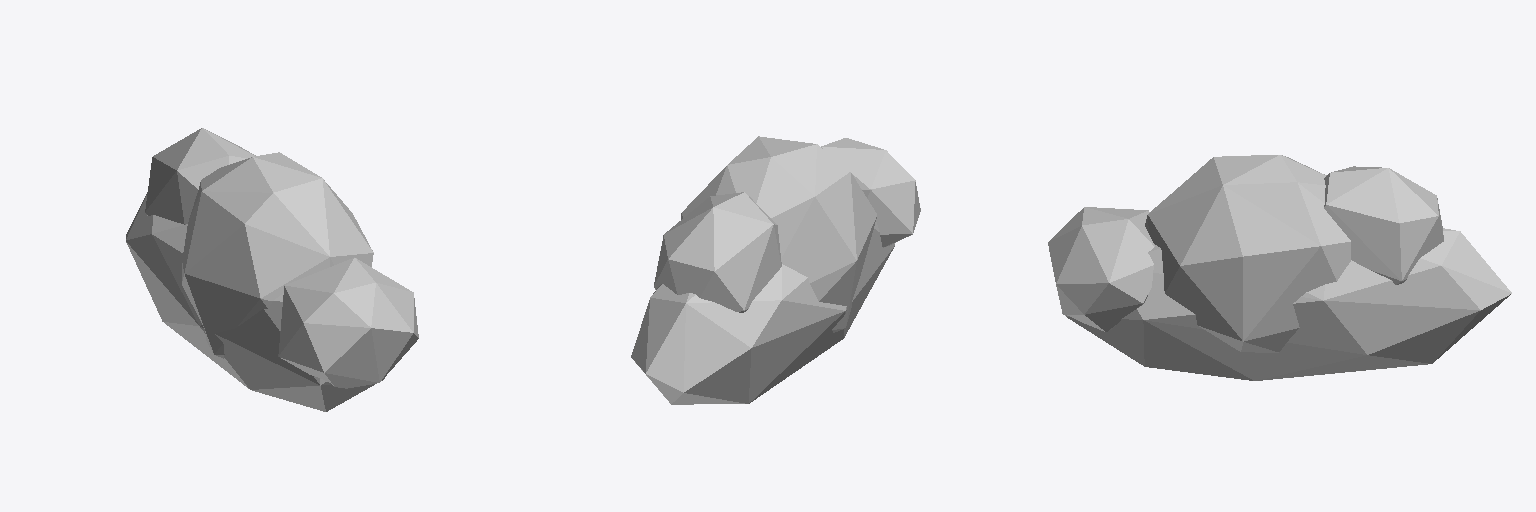
The model's file is BetterCloud.obj.
3 views of the same model, side by side, from view 1: azimuth 30°, elevation 25°; view 2: azimuth 150°, elevation 25°; view 3: azimuth 270°, elevation 25° (orthographic).
Parts seen in each view (by area): view 1: sphere9; view 2: sphere9; view 3: sphere9.
Boxes of the visible parts, <box> form: sphere9: <box>126,128,418,411</box>; sphere9: <box>631,136,920,404</box>; sphere9: <box>1048,155,1511,380</box>.
Bounding box in the file's own units: 2.92 × 3.47 × 7.32.